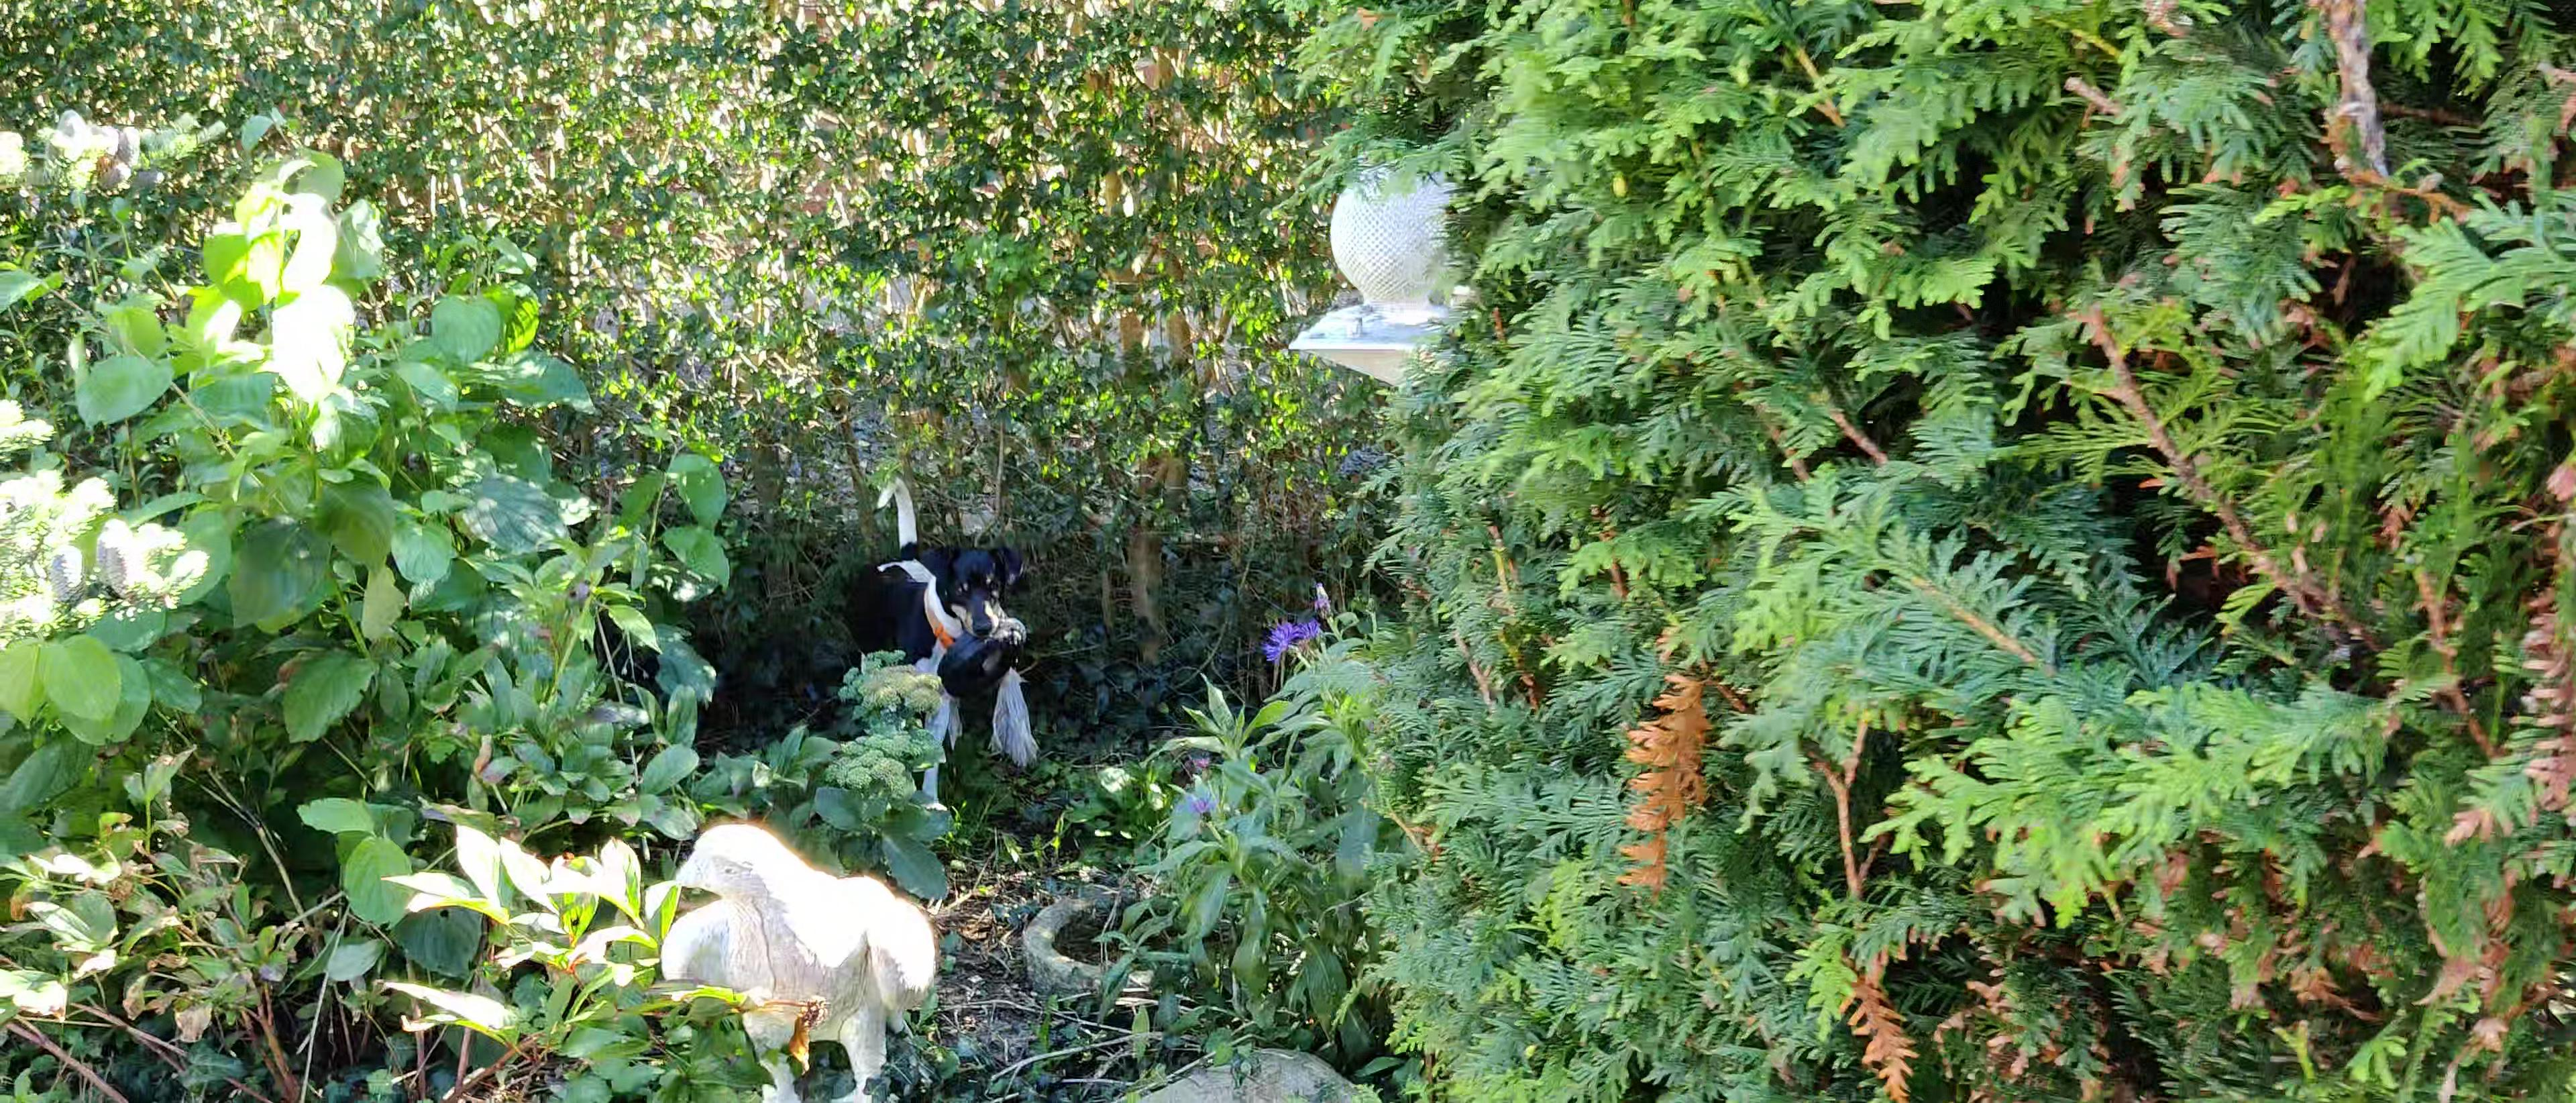Dog: (871, 467, 1025, 805)
